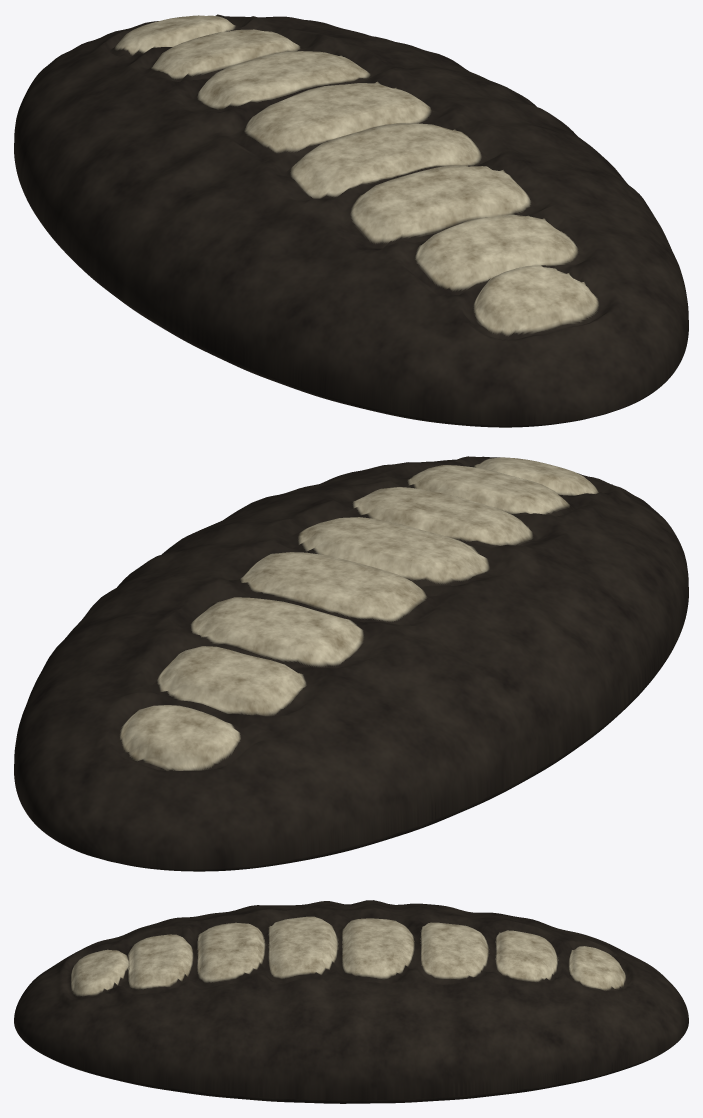
The picture shows the model from 3 angles, top to bottom: view 1: azimuth 30°, elevation 25°; view 2: azimuth 150°, elevation 25°; view 3: azimuth 270°, elevation 25°; orthographic projection. The views are drawn at different scales.
Visible parts, largest first — view 1: NEW658_Katharina_tunicata_single_closed_body; view 2: NEW658_Katharina_tunicata_single_closed_body; view 3: NEW658_Katharina_tunicata_single_closed_body.
Boxes of the visible parts, left/top/right/bottom form: NEW658_Katharina_tunicata_single_closed_body: left=14, top=14, right=688, bottom=427; NEW658_Katharina_tunicata_single_closed_body: left=14, top=456, right=688, bottom=871; NEW658_Katharina_tunicata_single_closed_body: left=14, top=900, right=688, bottom=1103.
Size of the model in its own units: 0.05 by 0.016 by 0.09.
Materials: 1 (1 with a texture image).
